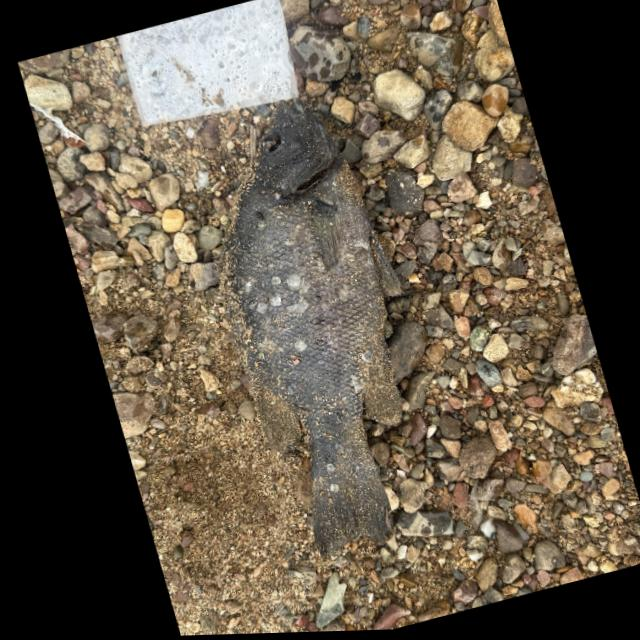Tilapia: (170, 77, 479, 561)
